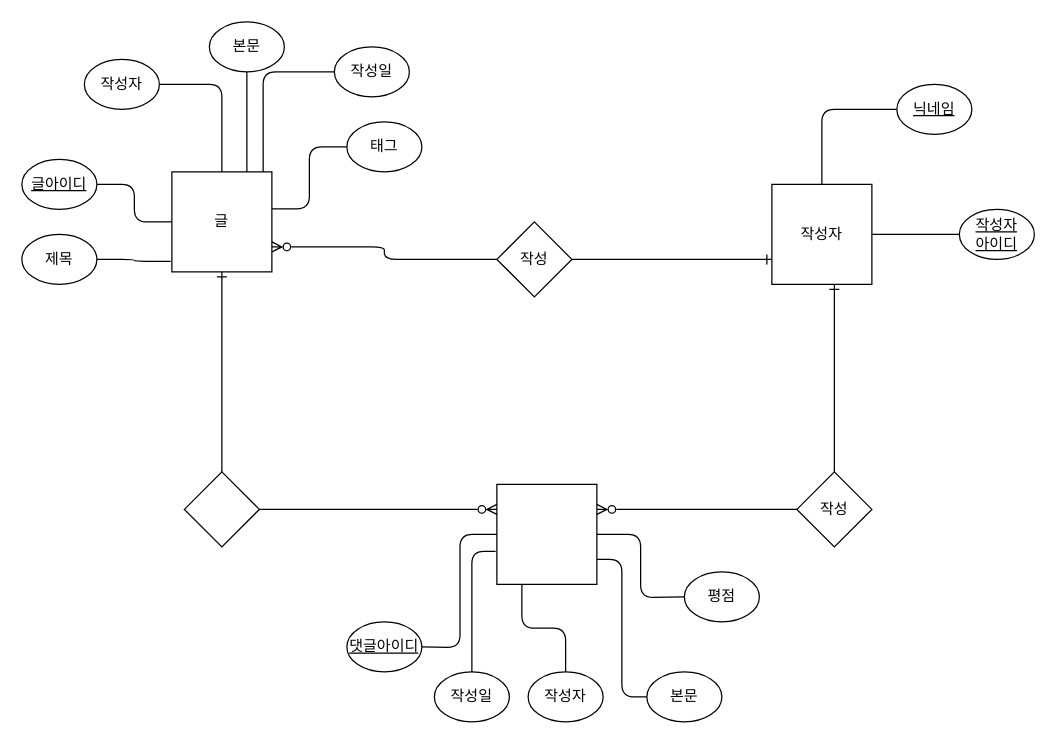
This 1056x744 diagram has some shape labels left out. Each missing label, with the centre of its shape:
댓글: the point at 546,533
포함: the point at 221,509
